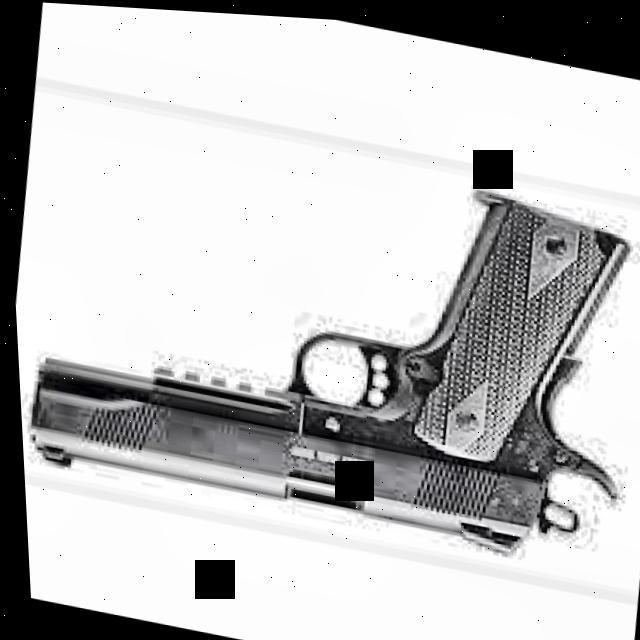Colt m1911: (4, 102, 640, 578)
